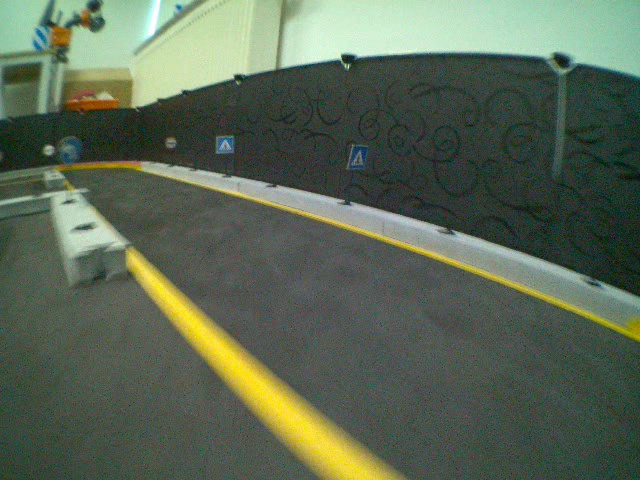crossing: (346, 143, 368, 169), (215, 134, 236, 154)
